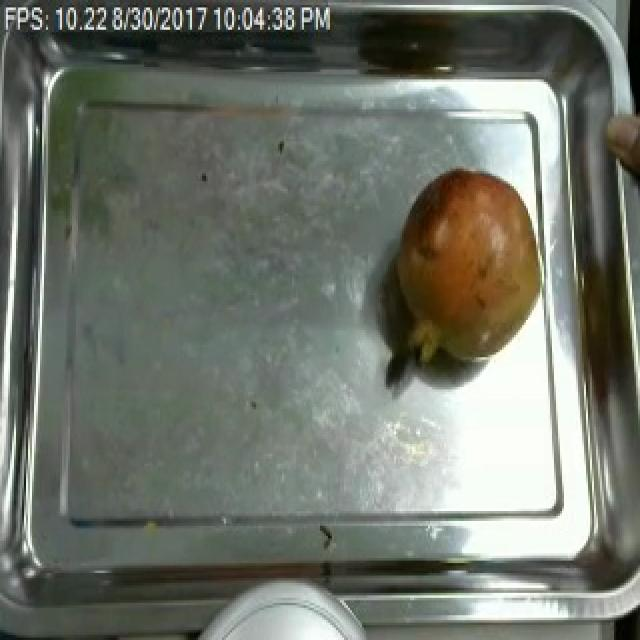fruit: (392, 161, 546, 380), (604, 94, 640, 191)
